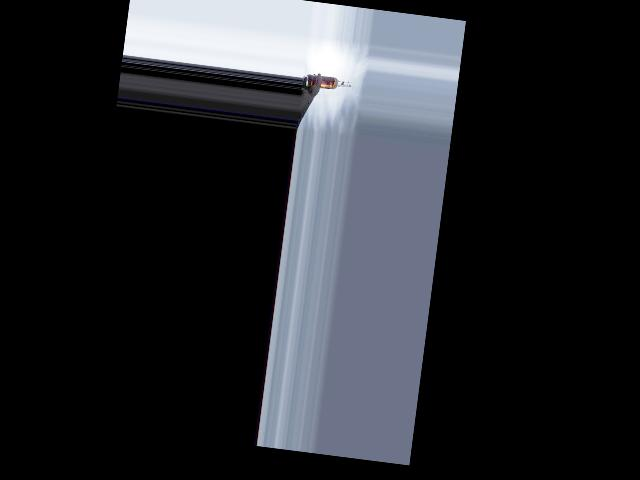beer: (305, 74, 351, 92)
